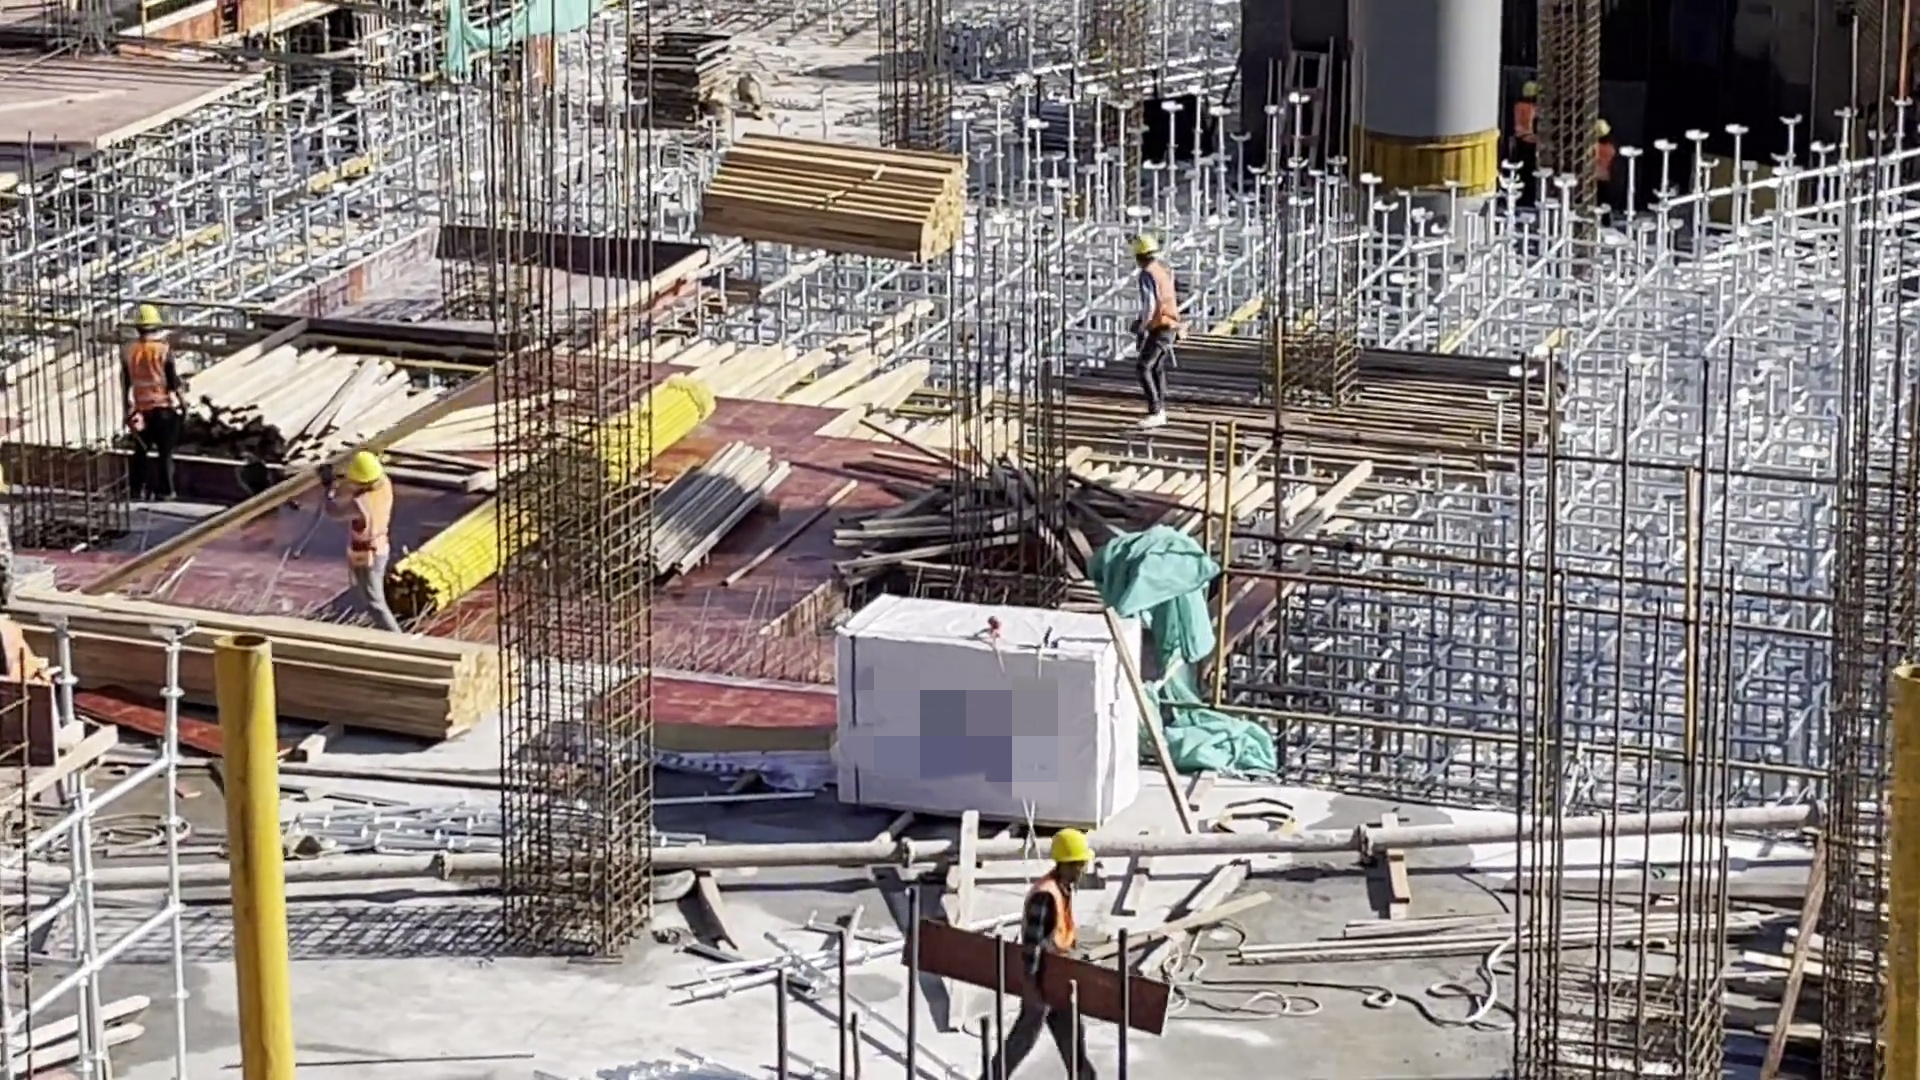board: (641, 667, 851, 787), (638, 27, 741, 121)
helmet: (1038, 834, 1096, 866), (1128, 229, 1163, 279), (341, 449, 381, 489), (136, 294, 176, 329), (1521, 81, 1548, 102), (1579, 122, 1606, 144)
person: (1031, 821, 1091, 1080), (128, 286, 189, 493), (344, 445, 404, 623), (1139, 228, 1179, 426), (1594, 110, 1619, 226), (1506, 86, 1538, 171)
vest: (1041, 869, 1086, 966), (356, 471, 409, 554), (133, 334, 193, 399), (1156, 264, 1183, 329), (1508, 104, 1543, 141), (1598, 142, 1618, 187)
wood: (14, 569, 509, 747), (711, 122, 969, 257), (193, 319, 393, 461)
